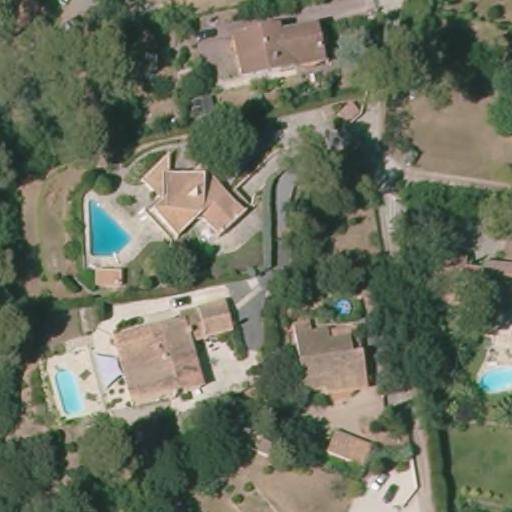pool: (77, 194, 134, 261), (47, 361, 90, 420), (474, 356, 511, 393), (333, 294, 355, 317)
